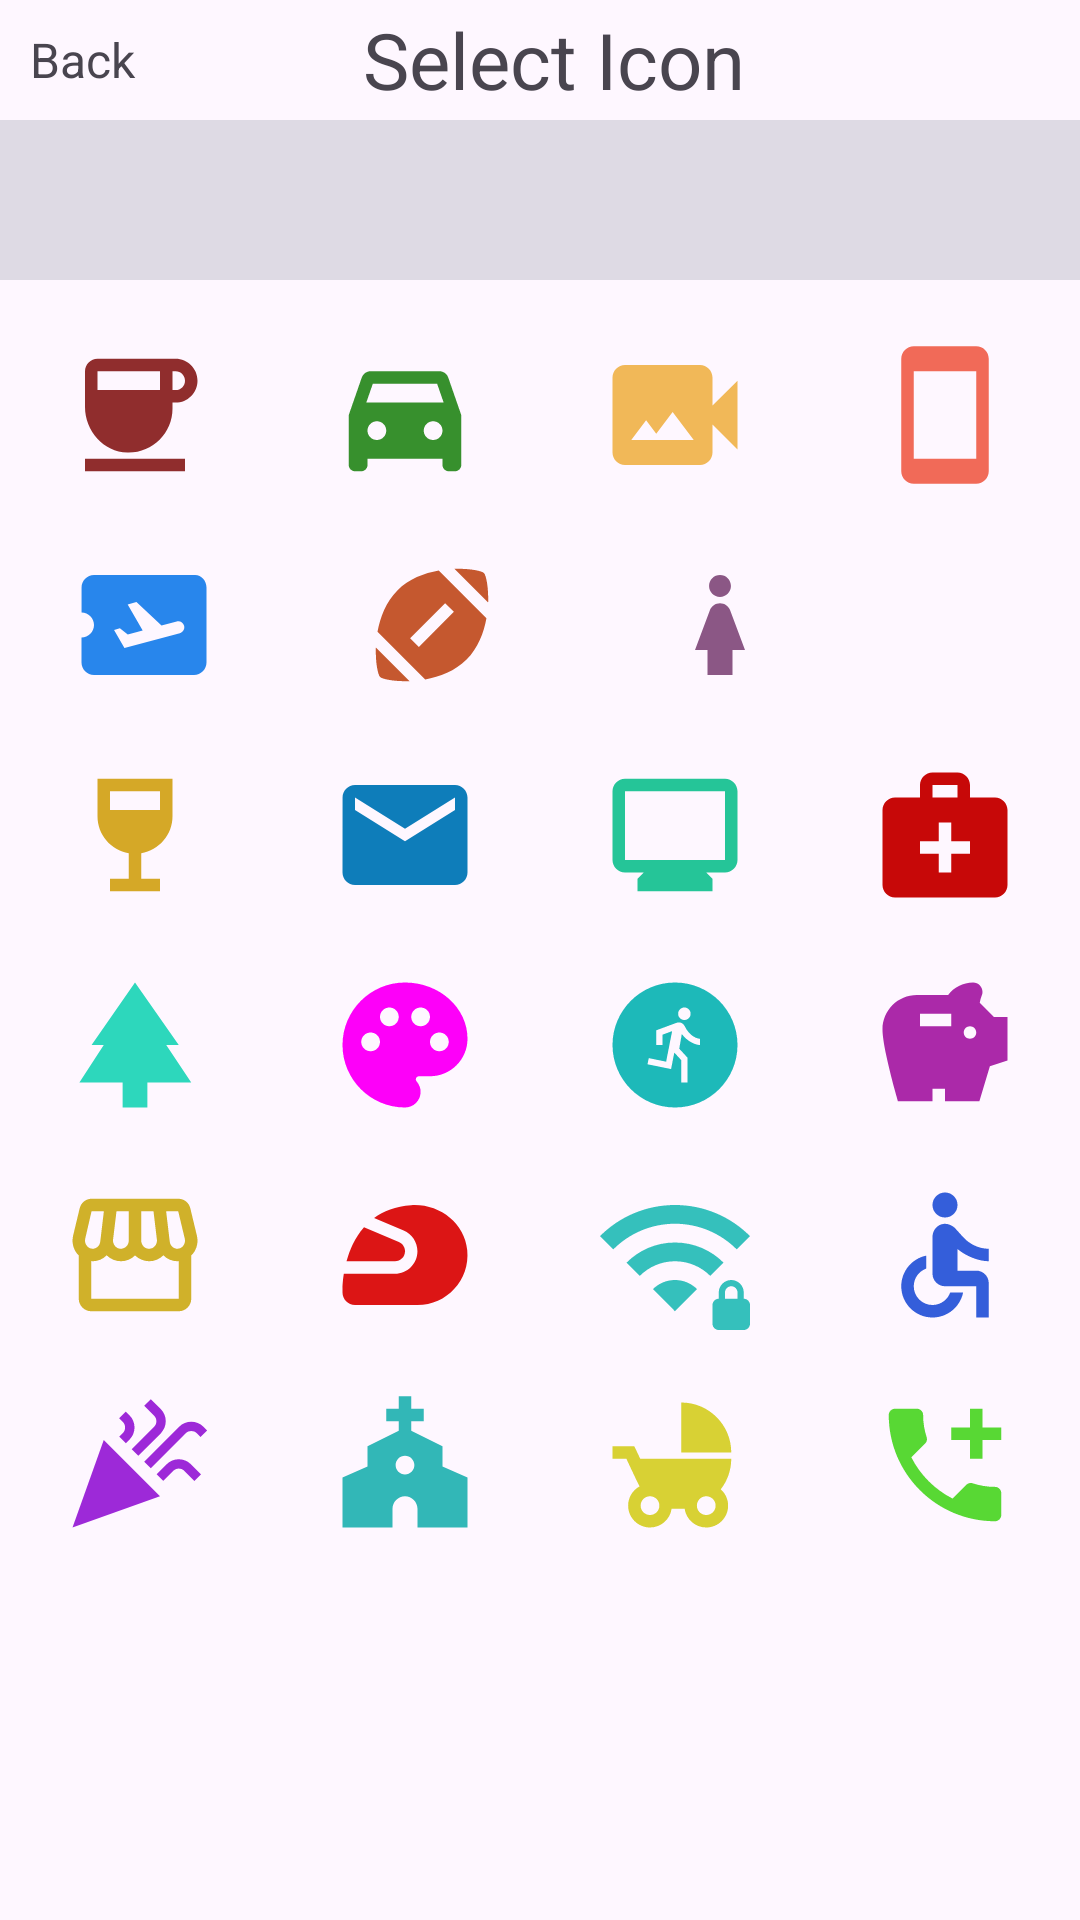

Named icons in this screenshot (1080w x 1920h) and their centers, point (x, y):
accessible: point (945, 1255)
airplane: point (144, 625)
bar: point (135, 835)
call: point (945, 1465)
car: point (405, 421)
celebration: point (139, 1463)
child: point (672, 1465)
church: point (405, 1462)
coffee: point (141, 415)
football: point (432, 625)
girl: point (720, 625)
medical: point (945, 835)
monitor: point (675, 835)
motorsports: point (405, 1255)
palette: point (405, 1045)
park: point (135, 1045)
post: point (405, 835)
run: point (675, 1045)
savings: point (945, 1042)
smartphone: point (945, 415)
storefront: point (135, 1255)
video: point (675, 415)
wifi: point (675, 1267)
